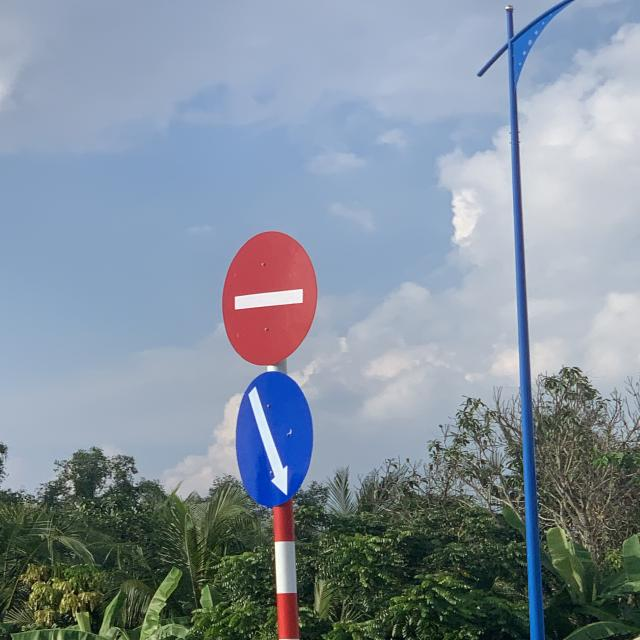Cam_Di_Nguoc_Chieu: (223, 230, 318, 366)
Chi_Huong_Di_Phai: (234, 371, 314, 509)
